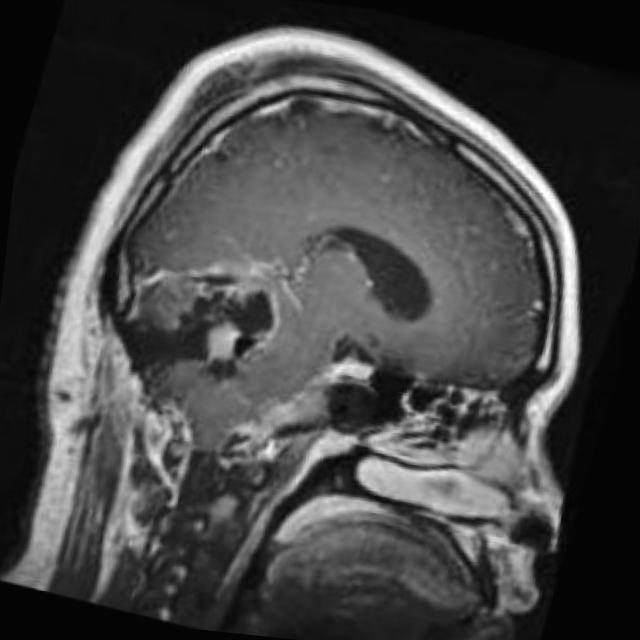LMCI: (144, 252, 342, 392)
